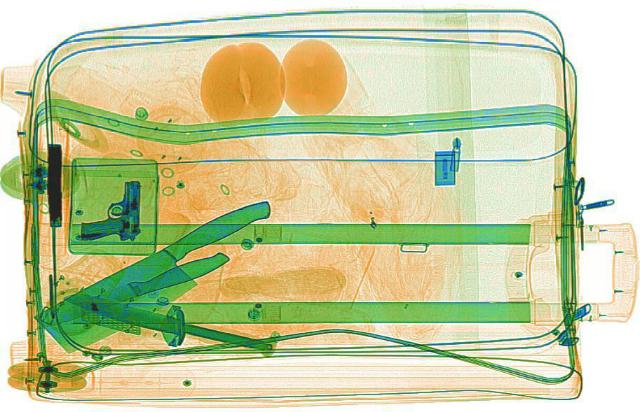Gun: (78, 179, 140, 241), (44, 142, 61, 226)
Knife: (15, 195, 312, 353), (25, 248, 236, 327), (58, 289, 272, 354)
